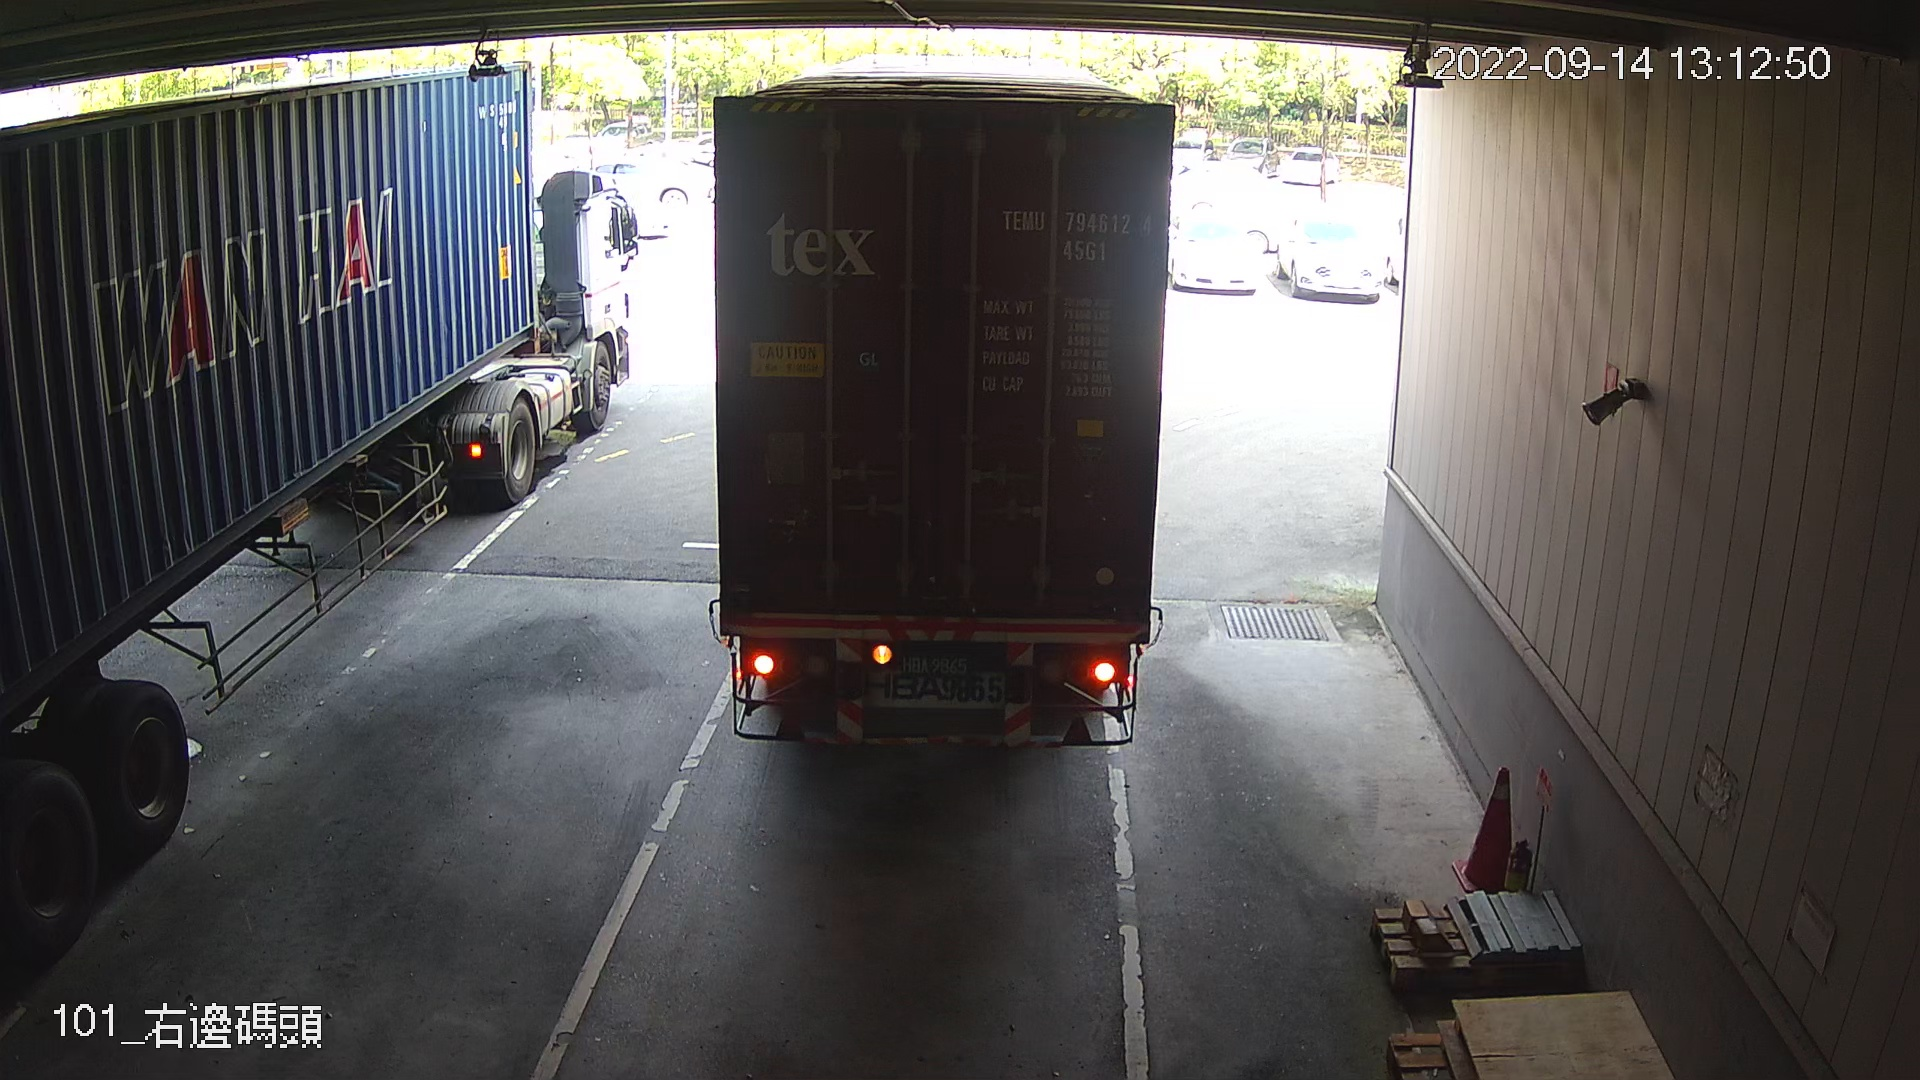container: (994, 200, 1160, 270)
